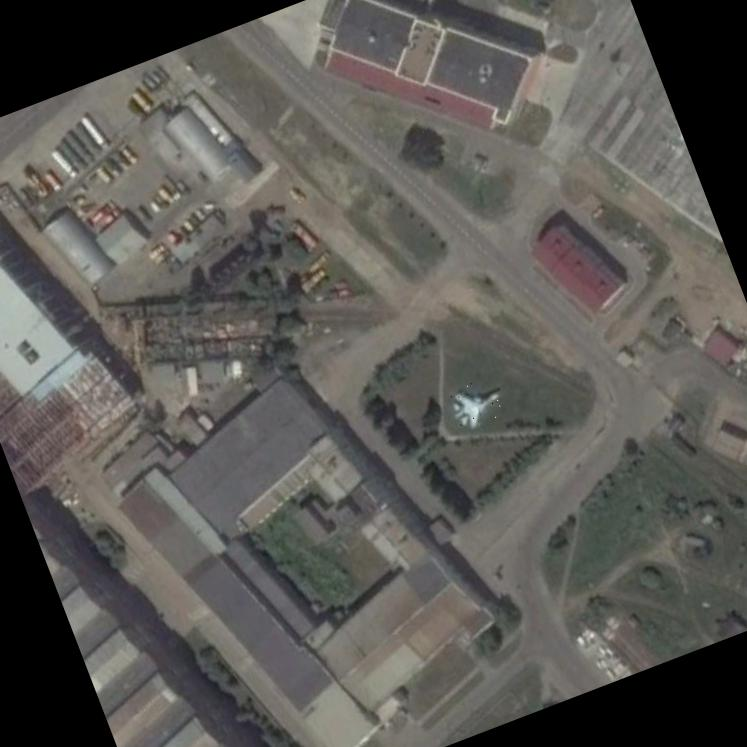A19: (445, 373, 510, 431)
